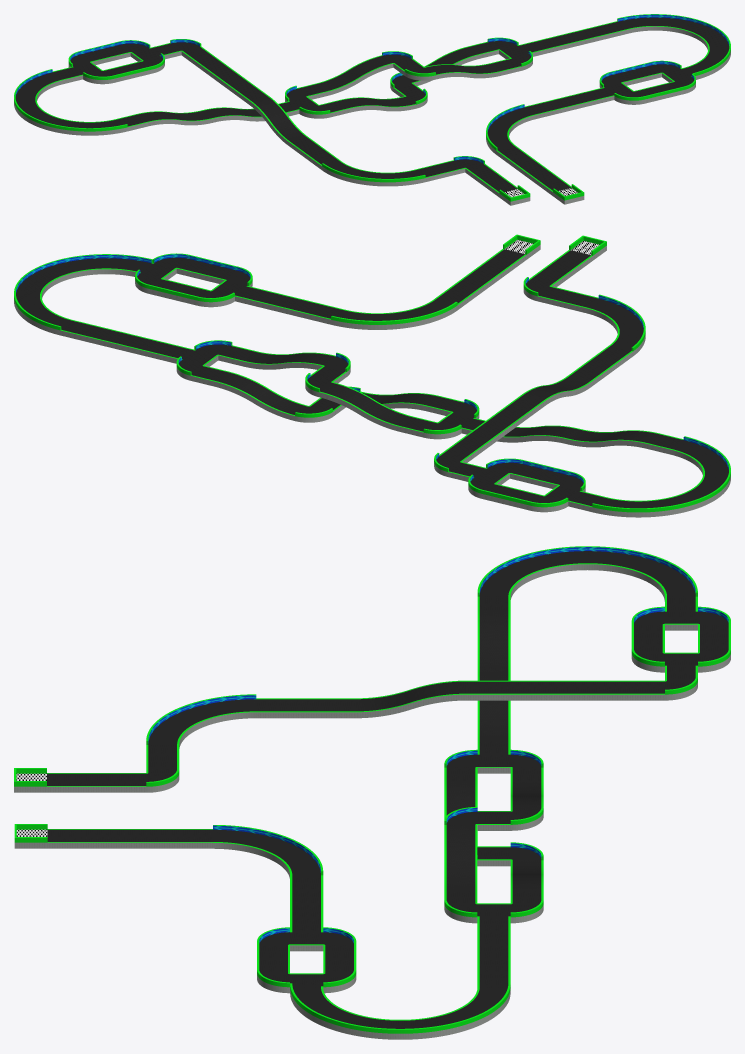
The model's file is track_basic1.dae.
3 views of the same model, one above another, from view 1: azimuth 30°, elevation 25°; view 2: azimuth 150°, elevation 25°; view 3: azimuth 270°, elevation 25° (orthographic). The views are drawn at different scales.
Parts seen in each view (by area): view 1: SketchUp (×5); view 2: SketchUp (×5); view 3: SketchUp (×5).
Boxes of the visible parts, x1=… form: SketchUp (×5): x1=14, y1=14, x2=730, y2=205; SketchUp (×5): x1=14, y1=234, x2=730, y2=517; SketchUp (×5): x1=14, y1=546, x2=730, y2=1039.
Bounding box in the file's own units: 37883 × 25612 × 2488.
